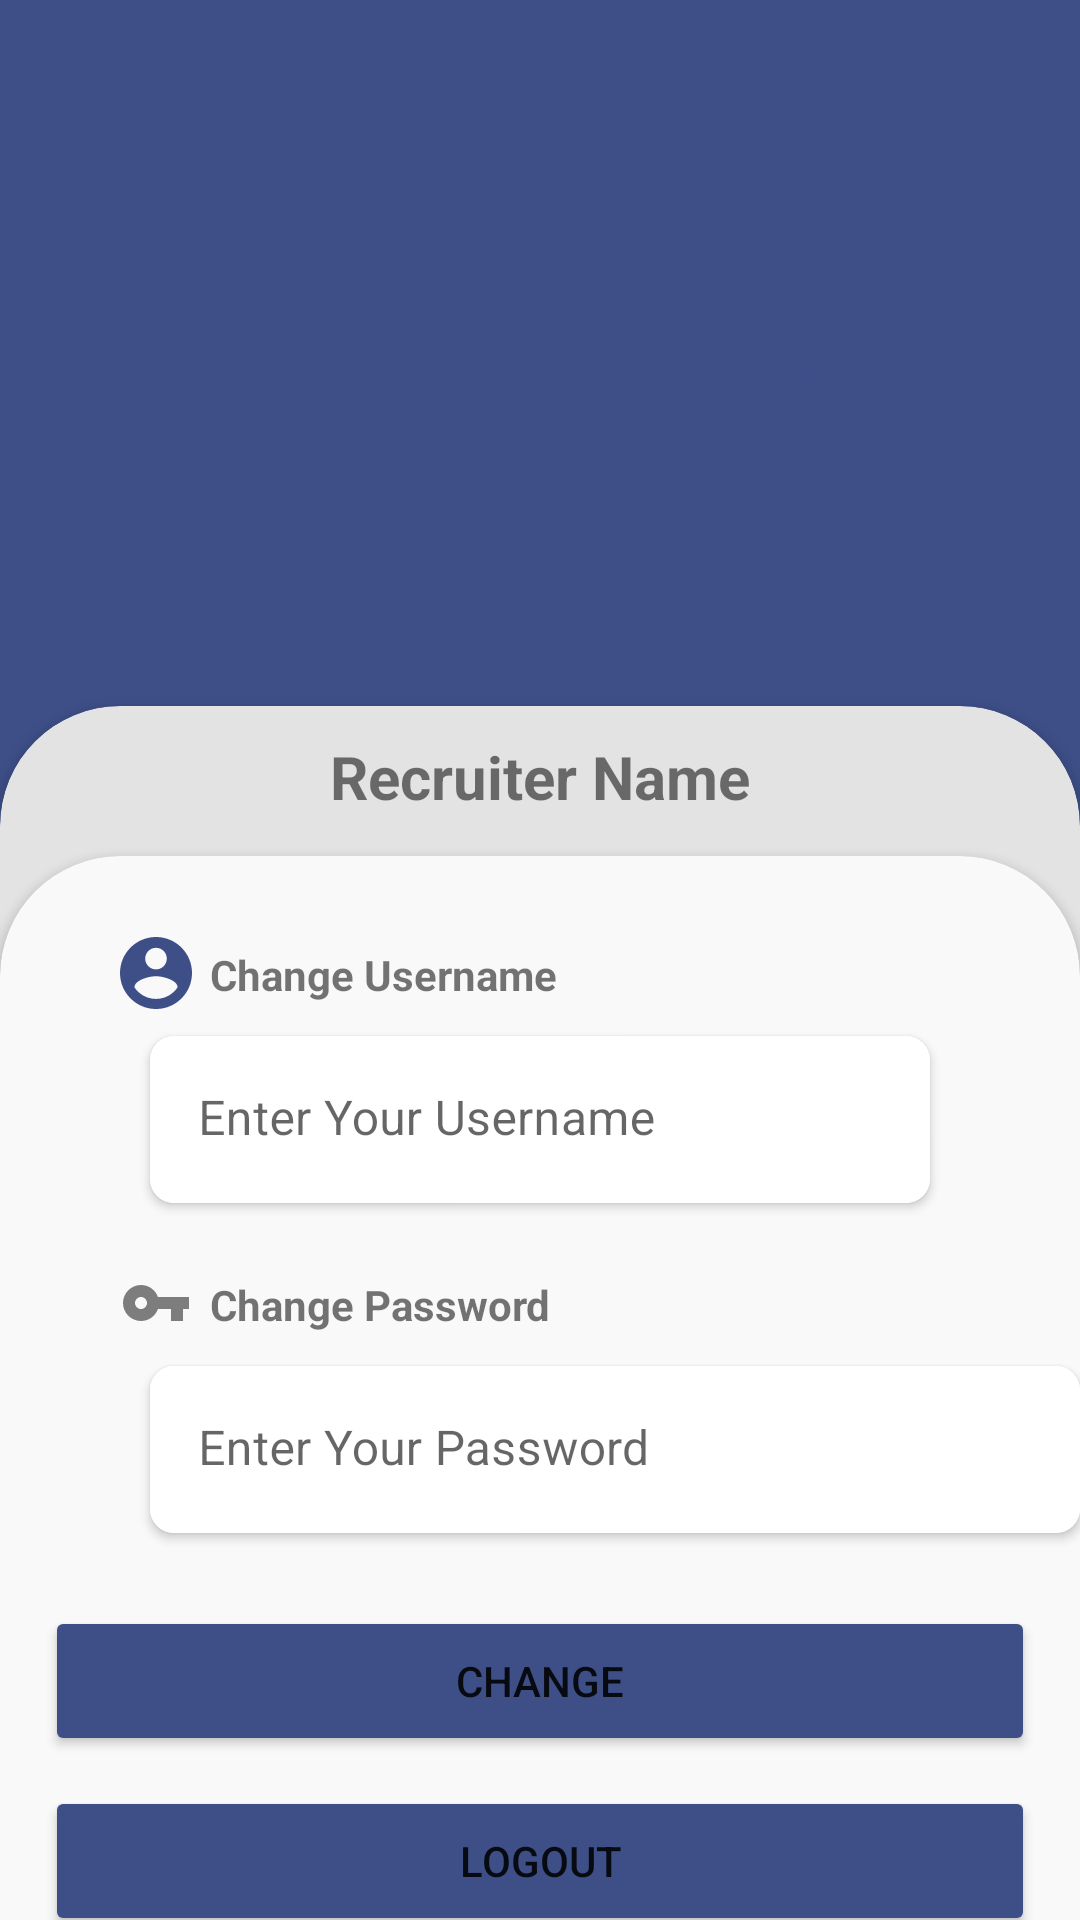

Where icons sit on this 1080px×1920px app screen, as bbox=[x1, y1, x2, y2]:
password symbol: bbox=[123, 1285, 189, 1321]
profile symbol: bbox=[120, 937, 192, 1009]
